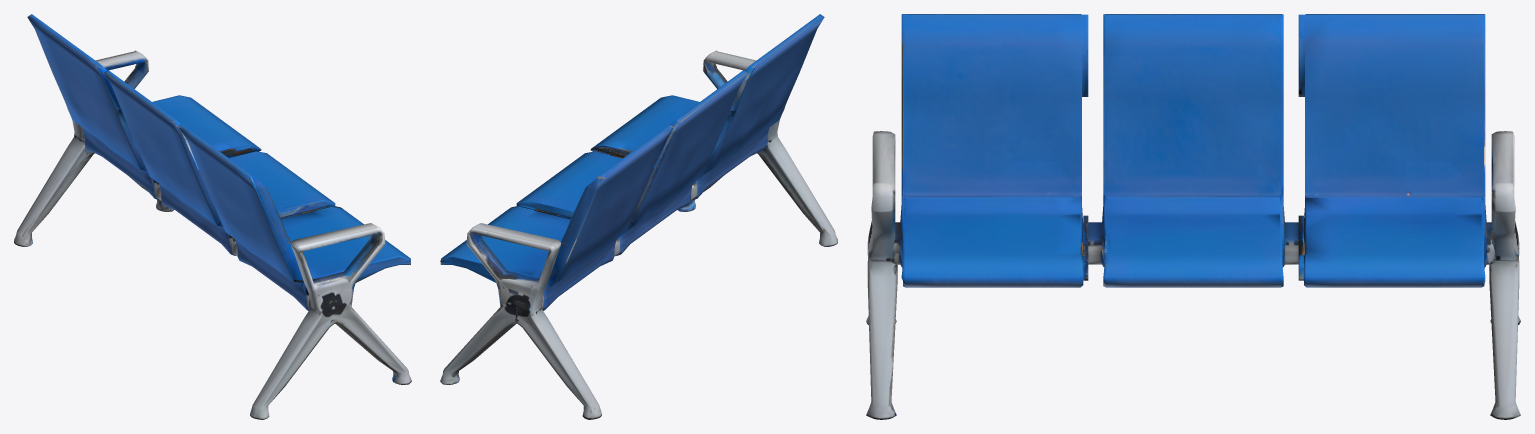
File: waitingseats.fbx
3 renders of one model, left to right at view 1: azimuth 30°, elevation 25°; view 2: azimuth 150°, elevation 25°; view 3: azimuth 270°, elevation 25°, orthographic. The views are drawn at different scales.
Parts seen in each view (by area): view 1: tripo_node_ea333261; view 2: tripo_node_ea333261; view 3: tripo_node_ea333261.
Part boxes in pixels (left/top/right/bottom): tripo_node_ea333261: left=14, top=14, right=411, bottom=419; tripo_node_ea333261: left=440, top=14, right=837, bottom=419; tripo_node_ea333261: left=866, top=14, right=1520, bottom=419.
Bounding box in the file's own units: 37.14 × 49.33 × 94.47.
1 material, 1 textured.
